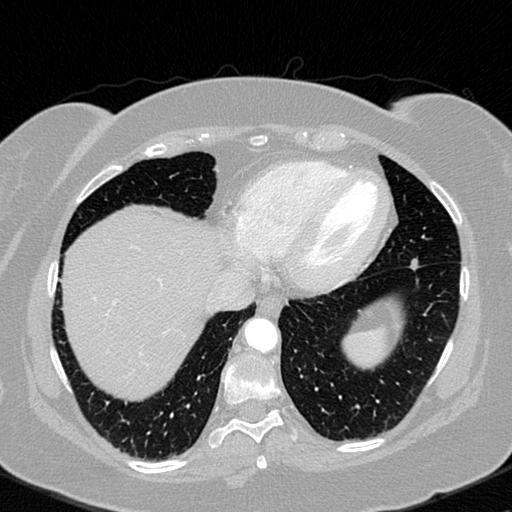nodule: (407, 257, 421, 271)
